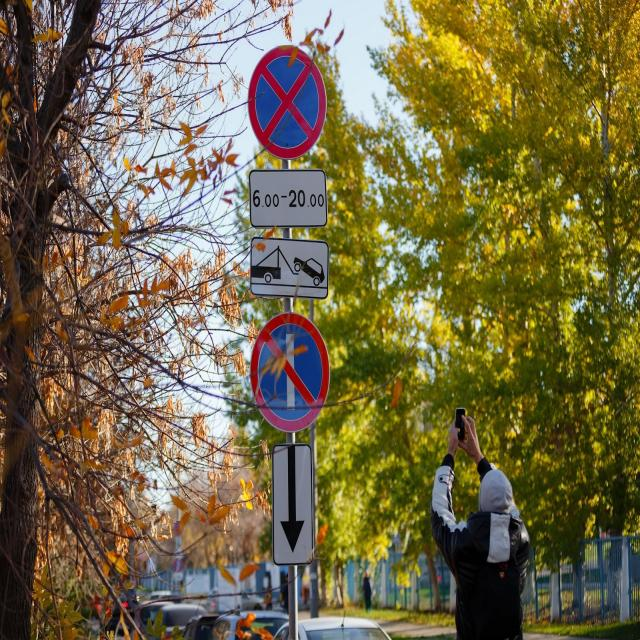Traffic sign: (248, 310, 333, 432), (248, 41, 330, 159), (268, 442, 319, 568), (244, 232, 332, 302), (247, 165, 329, 230)
